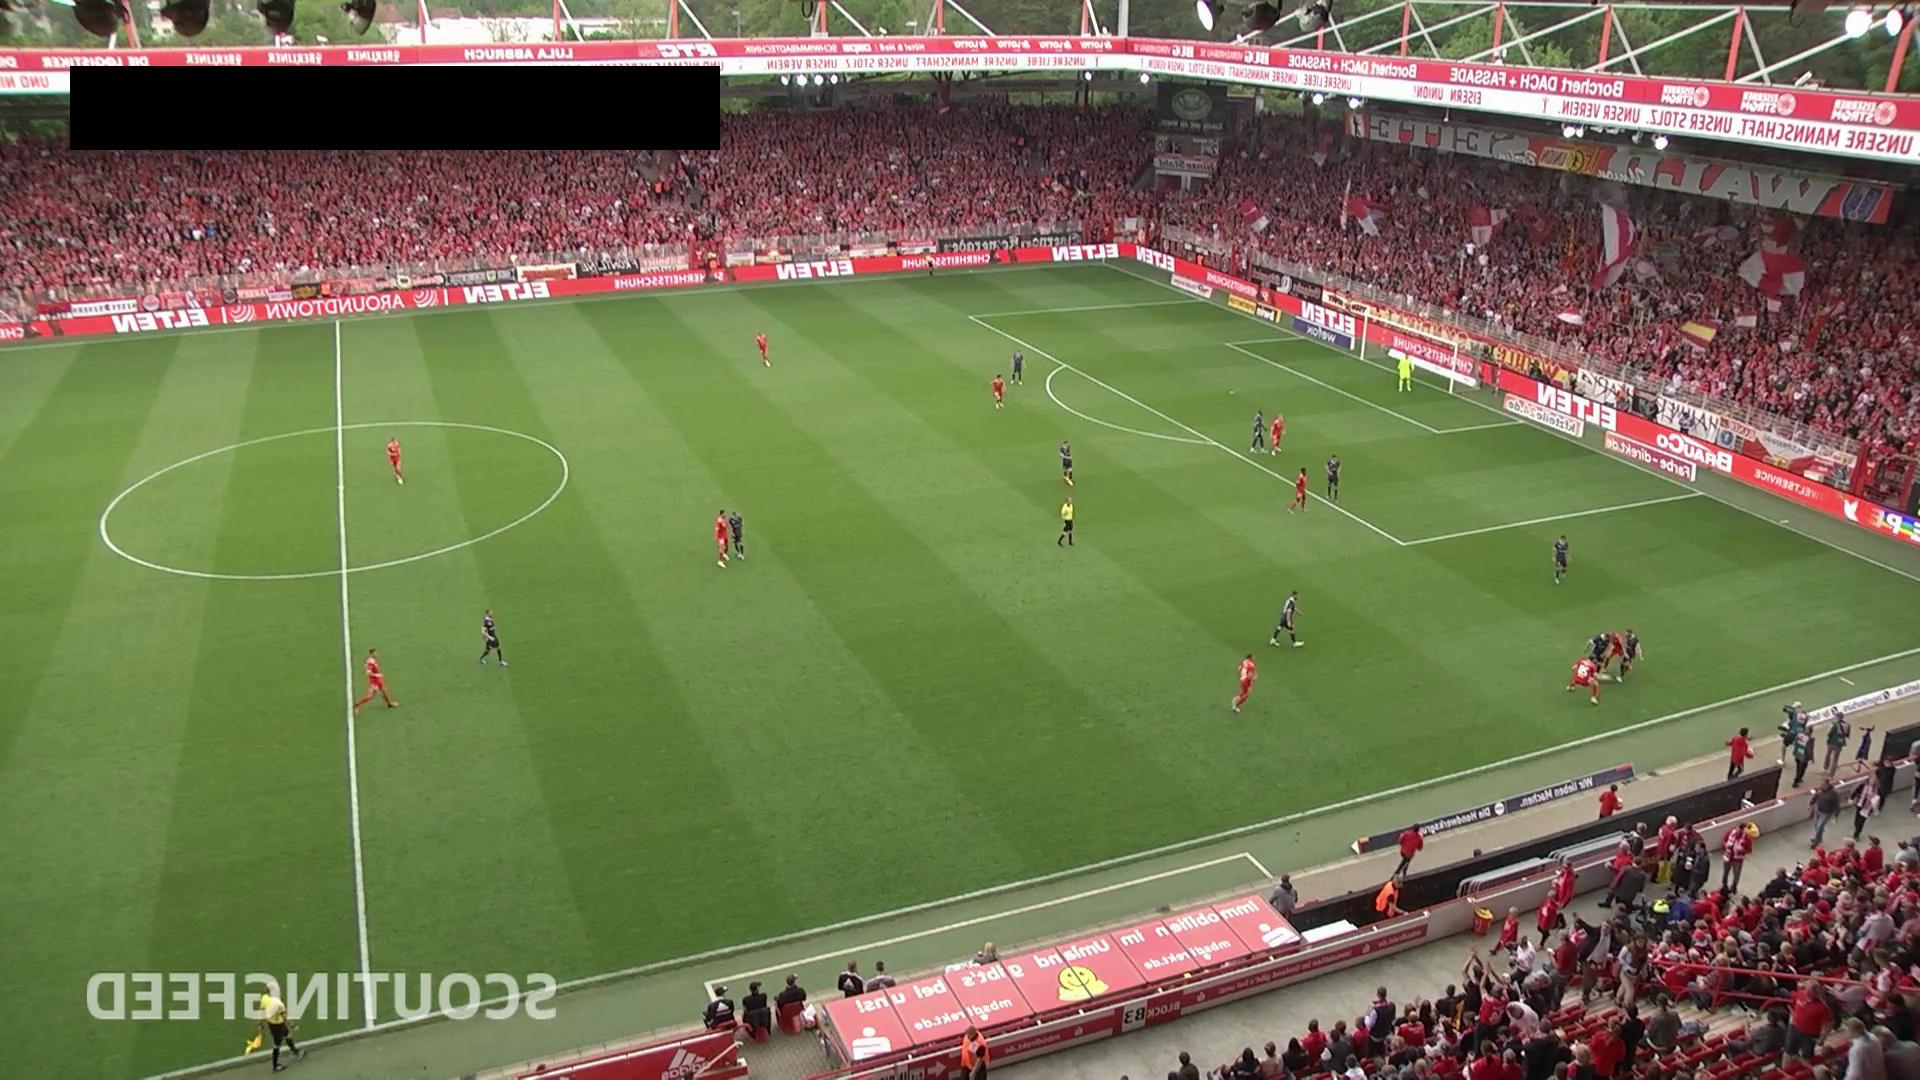ball: (1596, 671, 1613, 682)
goalkeeper: (1397, 352, 1415, 394)
player: (354, 648, 400, 714), (1269, 589, 1306, 648), (1566, 653, 1601, 705), (478, 608, 508, 667), (1230, 652, 1257, 714), (1617, 627, 1645, 686), (1581, 633, 1610, 680), (1602, 630, 1633, 672), (714, 509, 731, 569), (1287, 467, 1308, 513), (728, 510, 746, 561), (1552, 534, 1570, 584), (385, 436, 403, 485), (1325, 452, 1342, 502), (1059, 439, 1075, 486), (1250, 410, 1265, 454), (1269, 414, 1285, 455), (755, 330, 771, 368), (990, 373, 1006, 409), (1011, 352, 1024, 385)
referee: (256, 984, 306, 1072), (1057, 496, 1075, 547), (925, 252, 936, 278)
